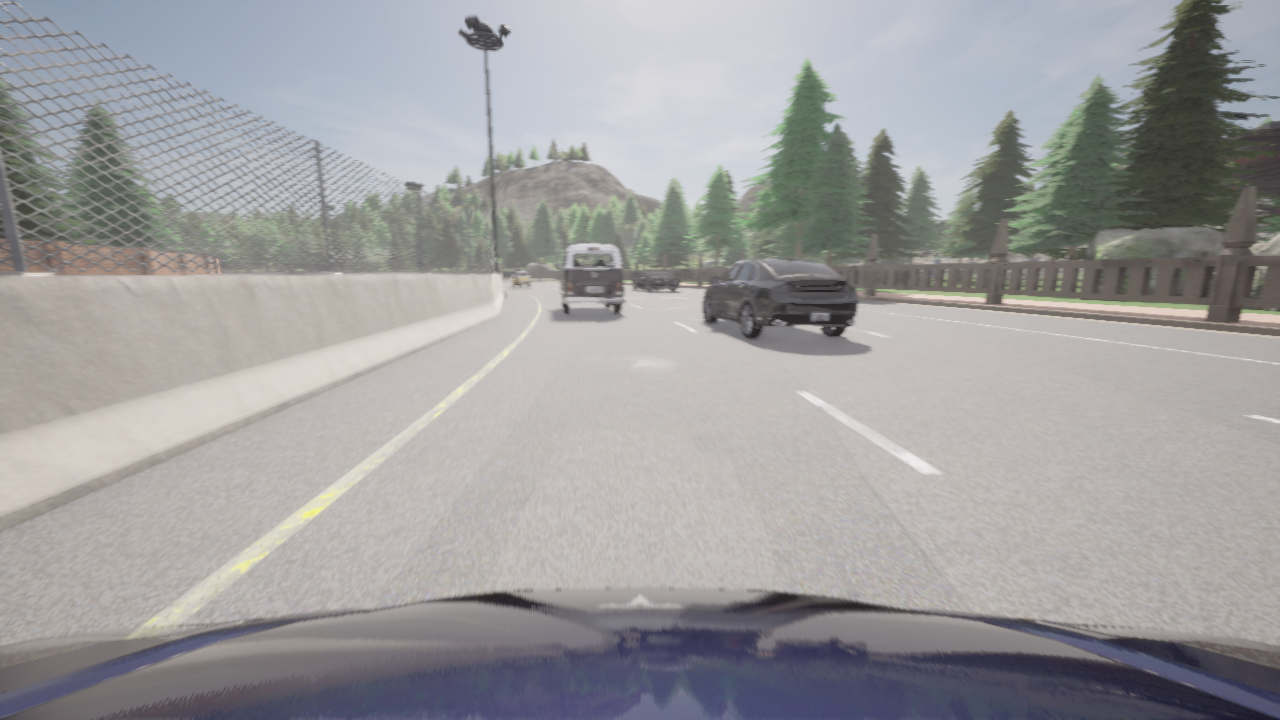cyclist: (0, 588, 1279, 719), (703, 257, 857, 338), (555, 244, 624, 314), (632, 272, 679, 291), (512, 271, 530, 287)
